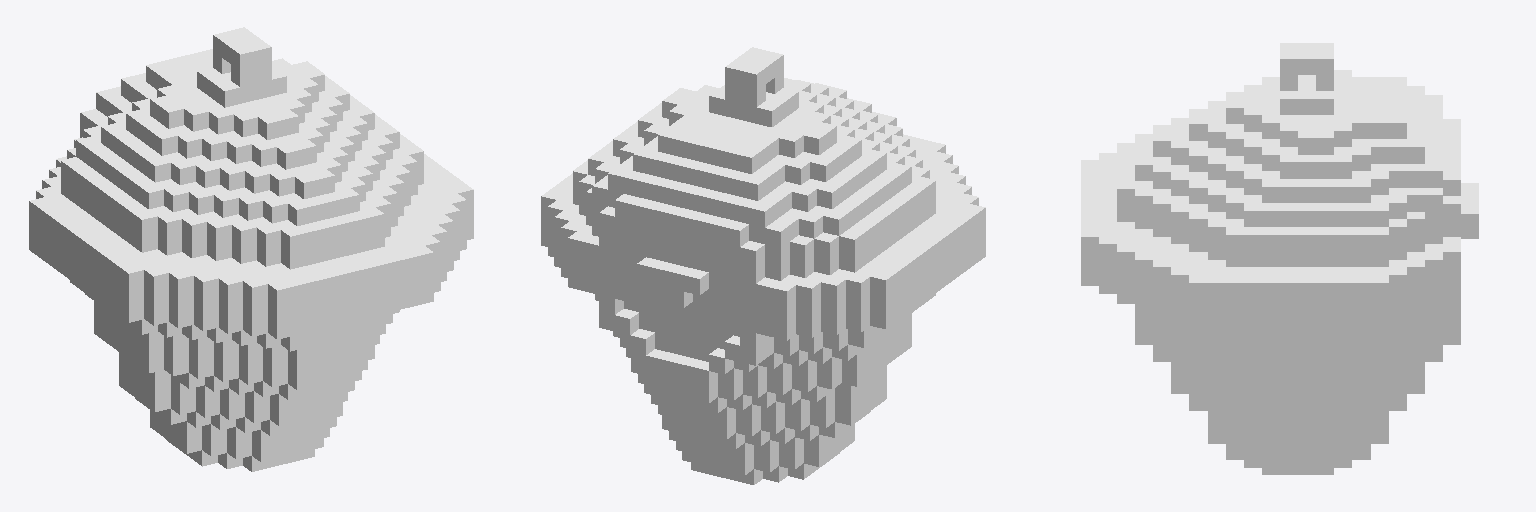
Rendered from robot2.obj.
The picture shows the model from 3 angles: view 1: azimuth 30°, elevation 25°; view 2: azimuth 150°, elevation 25°; view 3: azimuth 270°, elevation 25°; orthographic projection.
Bounding box in the file's own units: 22 × 25 × 22.